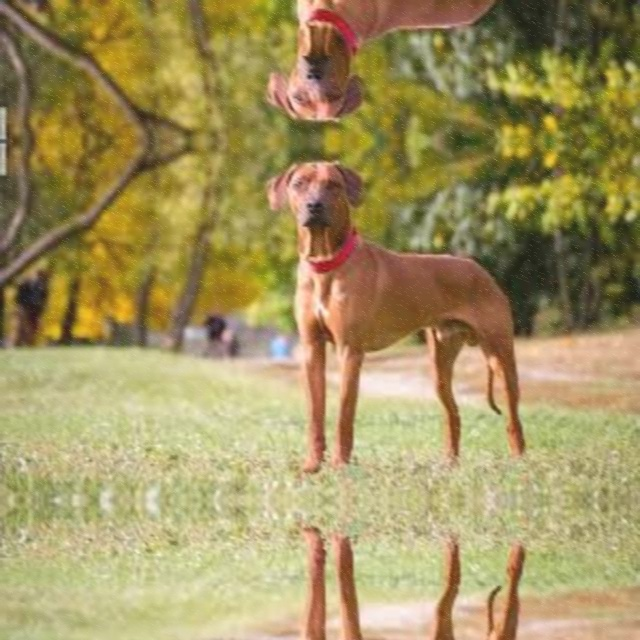dog: (245, 149, 410, 266), (245, 13, 410, 130)
